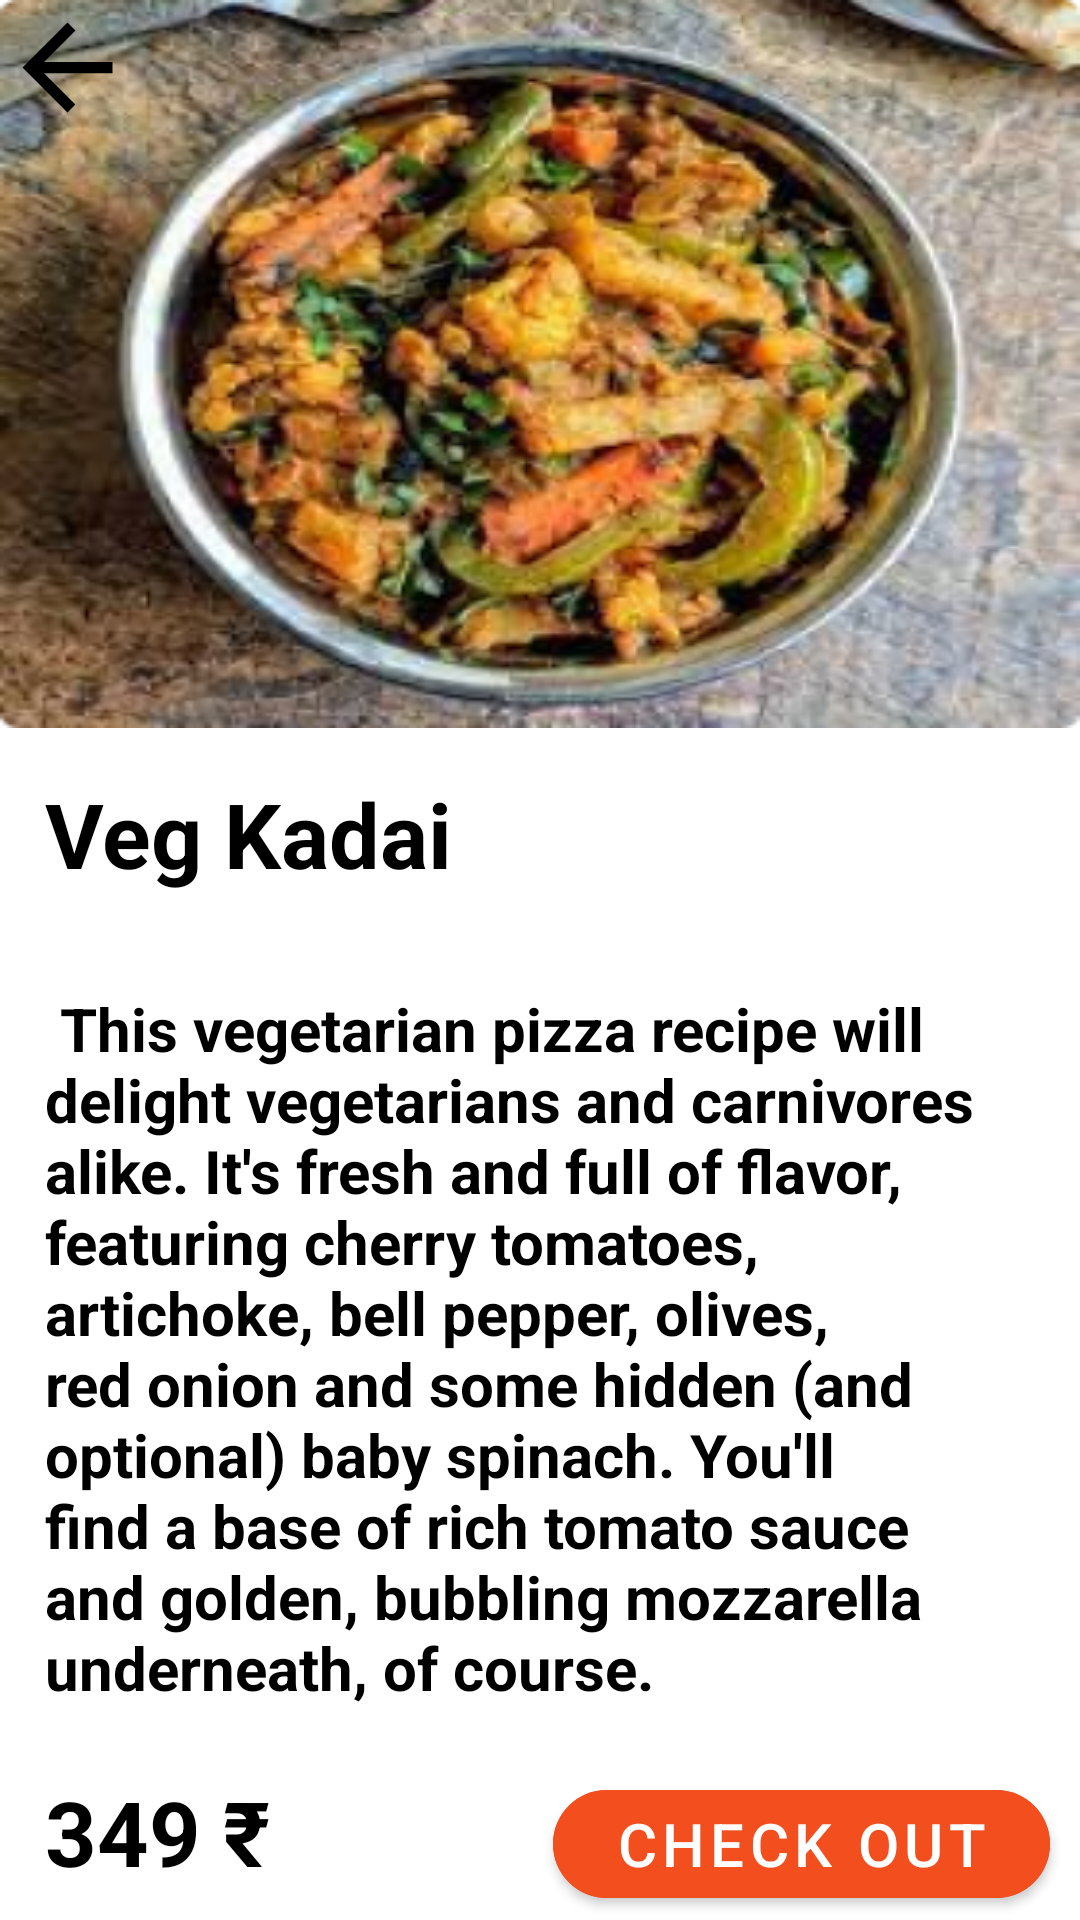

Named icons in this screenshot (1080px×1920px) and their centers, (x=x, y=y):
back: (x=67, y=67)
